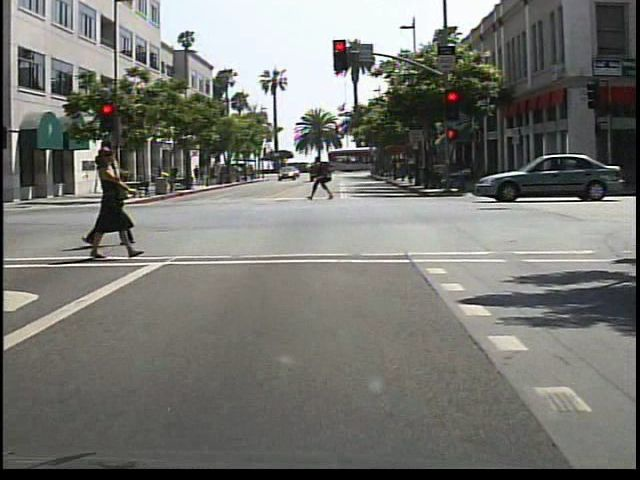person: (89, 142, 141, 263), (94, 155, 138, 248), (308, 154, 336, 204), (2, 148, 9, 269), (166, 162, 181, 190)
